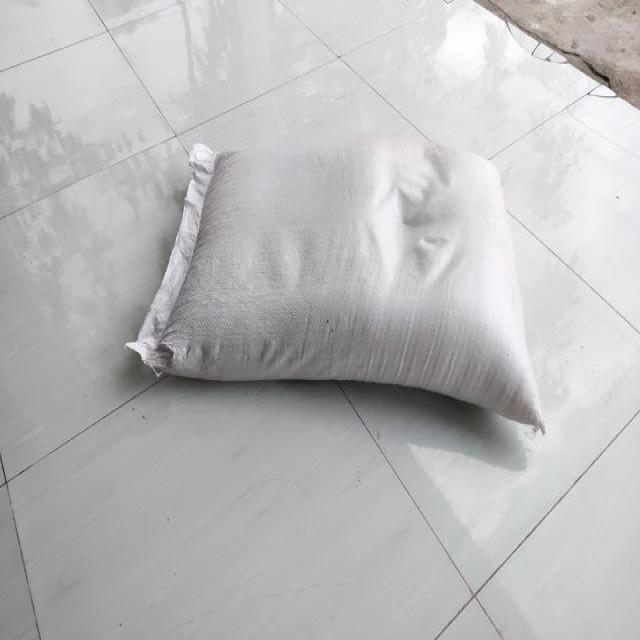gunny_bag: (127, 141, 546, 430)
